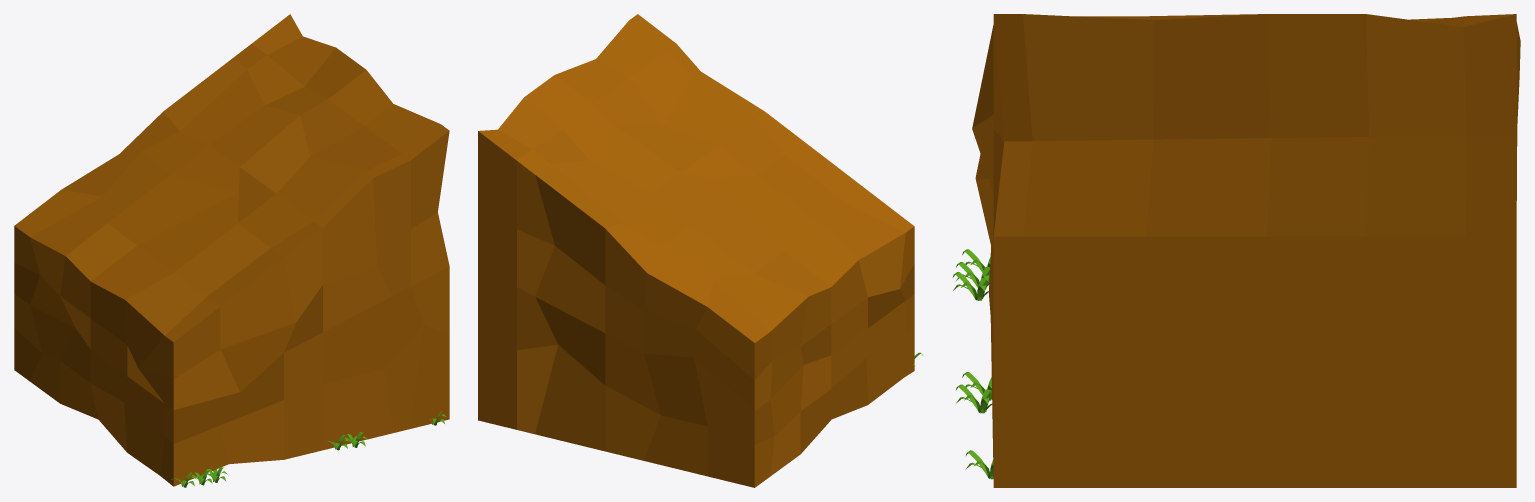
The model's file is block1.obj.
3 views of the same model, side by side, from view 1: azimuth 30°, elevation 25°; view 2: azimuth 150°, elevation 25°; view 3: azimuth 270°, elevation 25° (orthographic). The views are drawn at different scales.
Parts seen in each view (by area): view 1: Plane.040_Plane.046; view 2: Plane.040_Plane.046; view 3: Plane.040_Plane.046.
Part boxes in pixels (left/top/right/bottom): Plane.040_Plane.046: left=14, top=14, right=449, bottom=487; Plane.040_Plane.046: left=478, top=14, right=922, bottom=487; Plane.040_Plane.046: left=952, top=14, right=1520, bottom=487.
Size of the model in its own units: 4.15 by 4.02 by 4.35.
